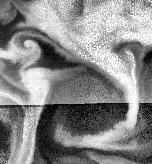AE: (38, 61, 139, 146)
CE: (9, 26, 52, 65)
